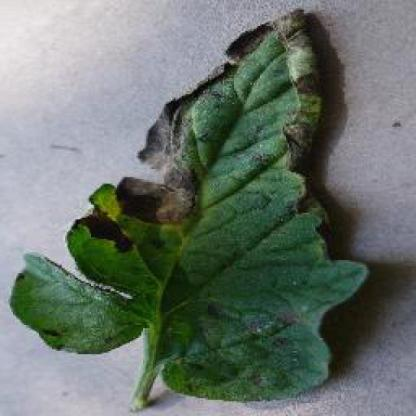Tomato_Blight: (11, 10, 347, 400)
